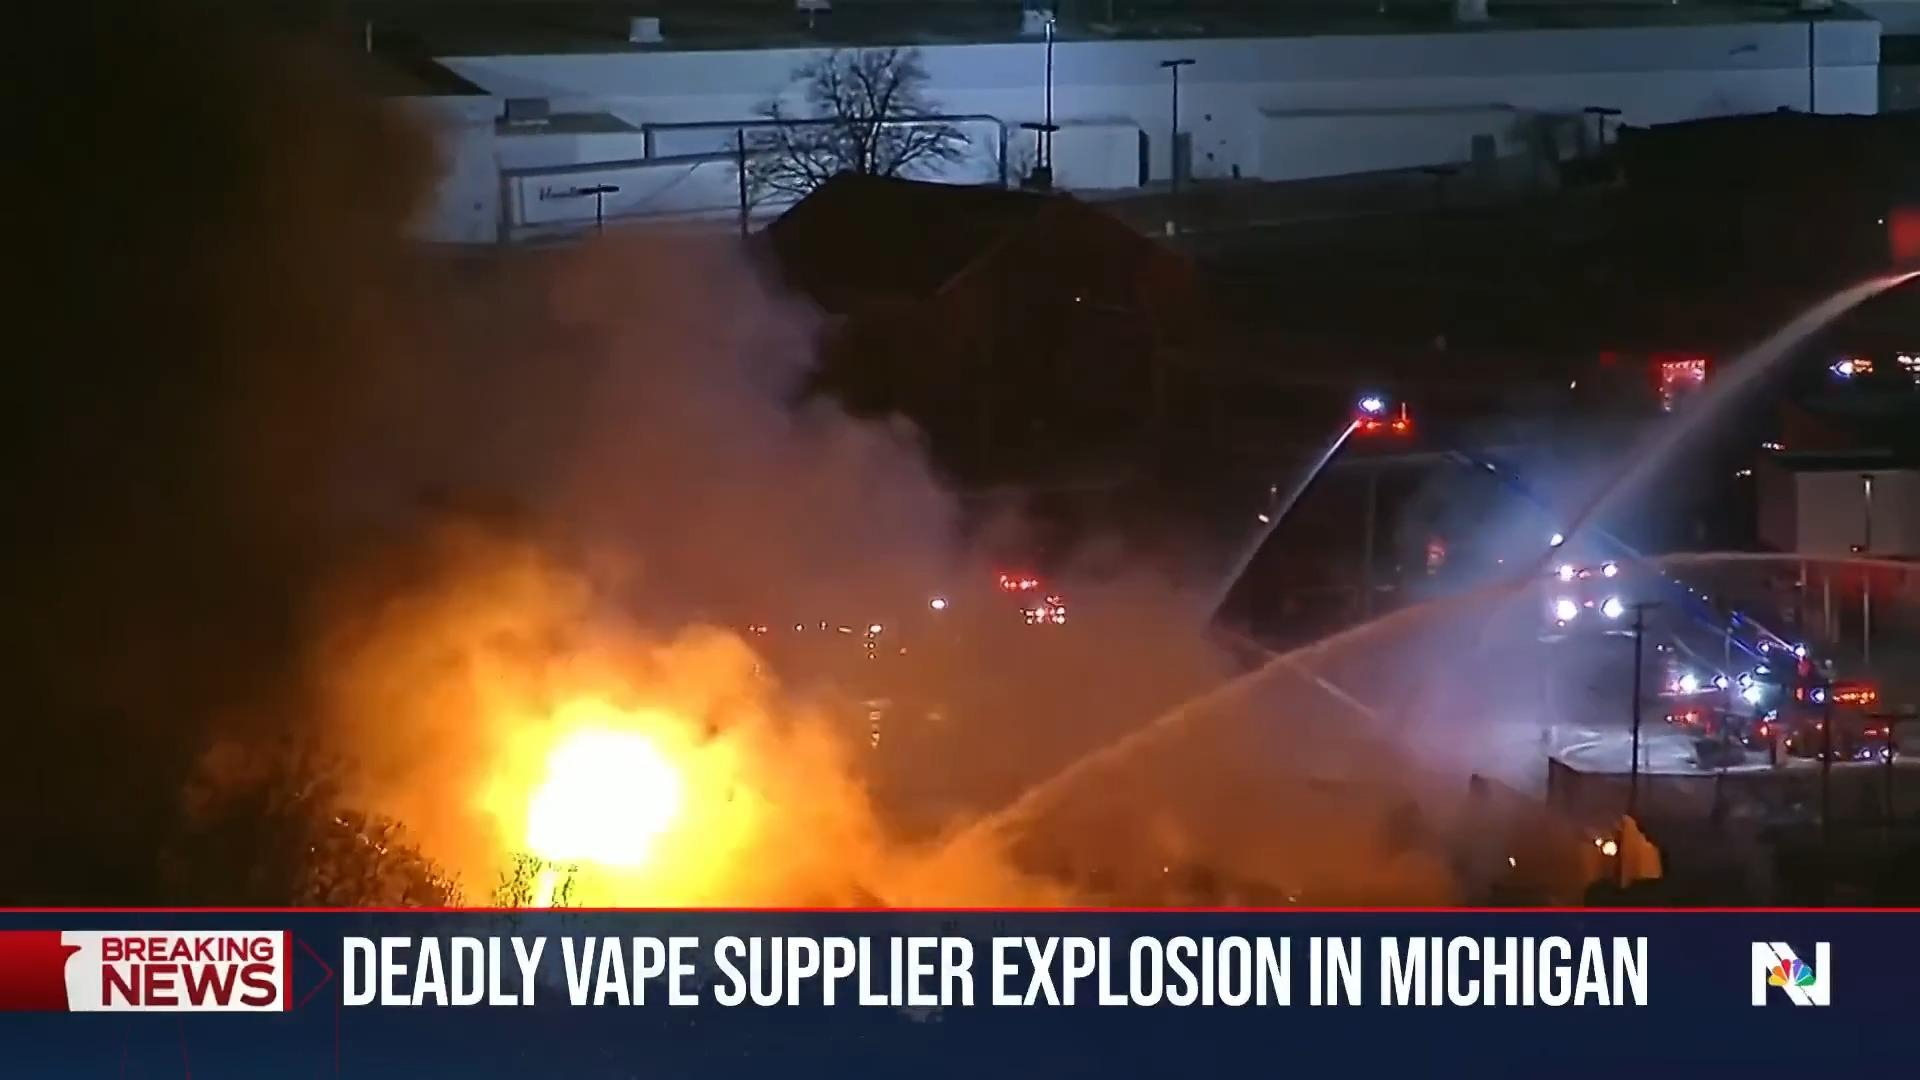fire: (270, 496, 942, 913)
